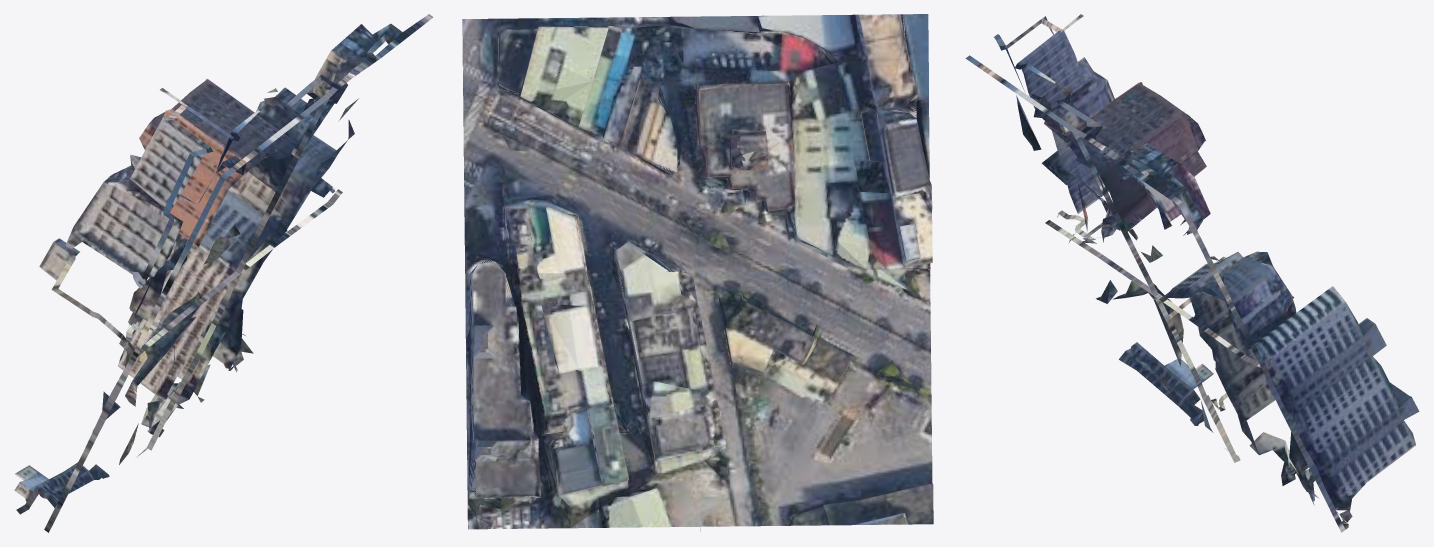
The picture shows the model from 3 angles, left to right: view 1: azimuth 30°, elevation 25°; view 2: azimuth 150°, elevation 25°; view 3: azimuth 270°, elevation 25°; orthographic projection. The views are drawn at different scales.
Bounding box in the file's own units: 158 × 155 × 154.
Materials: 1 (1 with a texture image).
